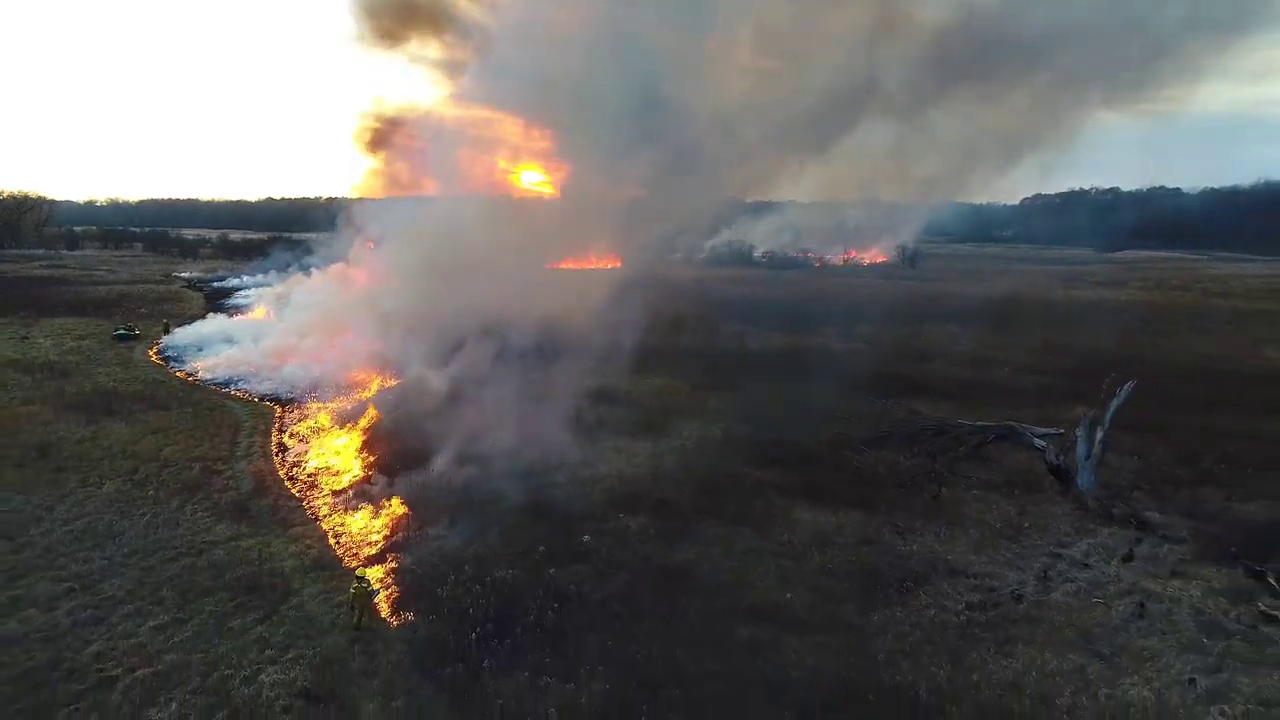forest_fire: (150, 342, 410, 626), (823, 248, 901, 265), (547, 253, 622, 268), (230, 304, 270, 319)
